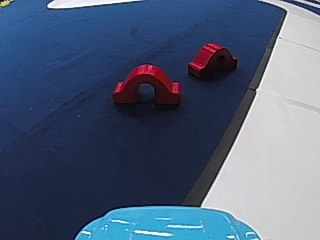bridge: (112, 59, 183, 106), (186, 40, 239, 81)
